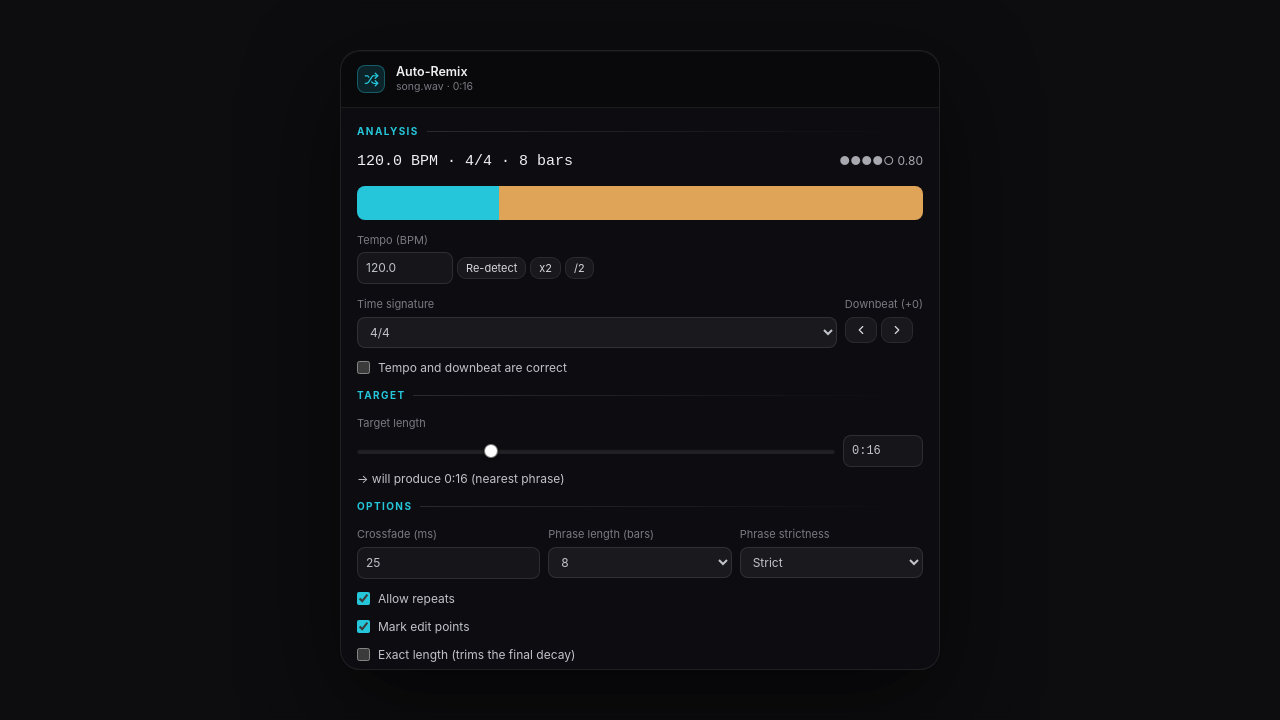
Test: RemixDialog › 12. Create stays disabled until the tempo is confirmed
What coordinates should you click on to do the following:
click the checkbox with test id "remix-tempo-confirmed"
I would click on:
 (364, 368)
Its box is [357,361,370,374].
(page scrolled)
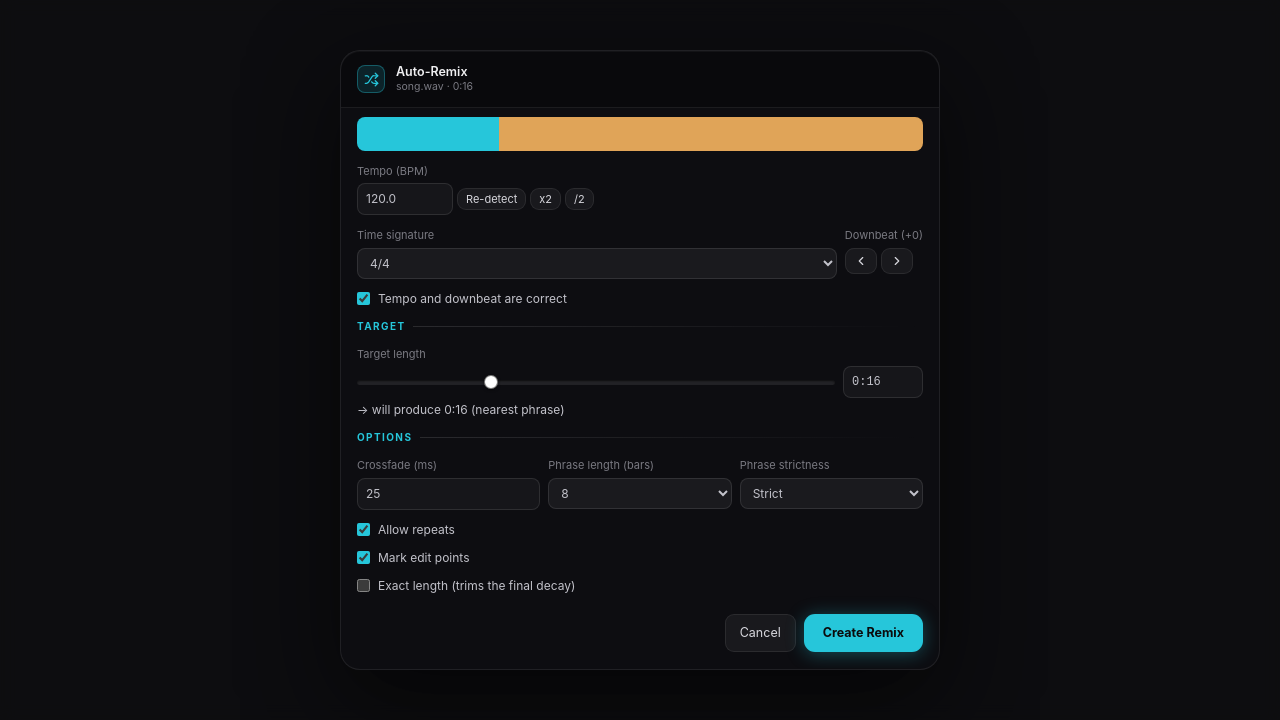
Result: the button "Create Remix" is enabled at [804,614,923,652]
